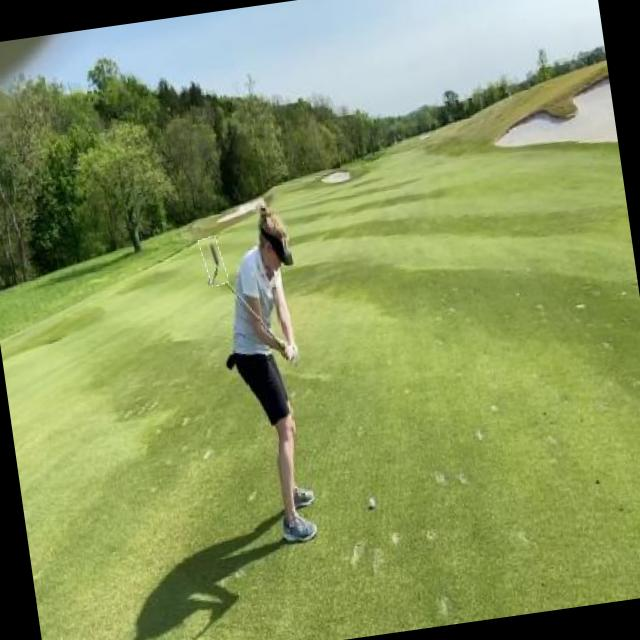club head: (200, 236, 228, 287)
